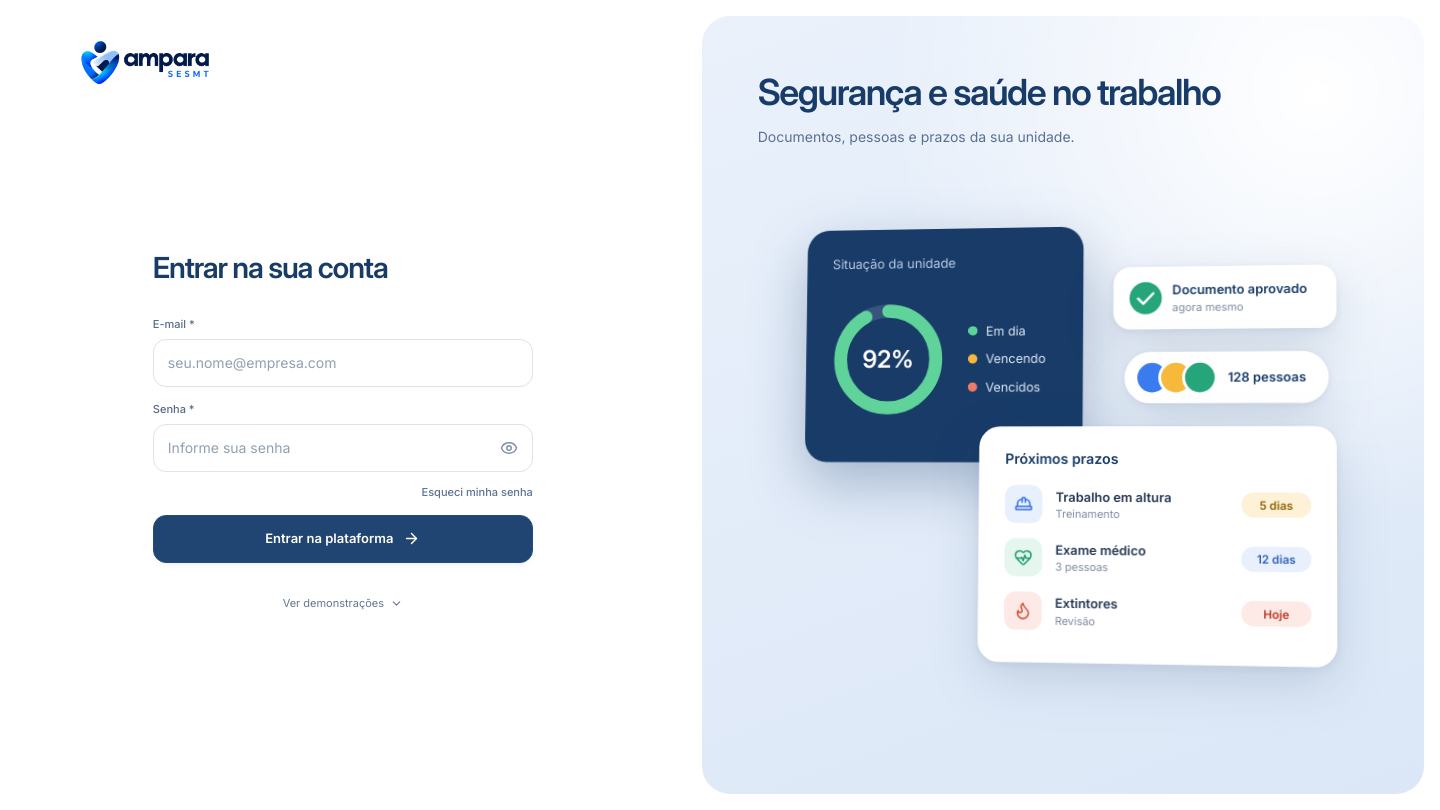
it: continuidade do acesso › abre e recolhe os perfis sem alterar o preenchimento nem autenticar uma conta
Type "conta@empresa.com" into the field labelled "E-mail" at coordinates (343, 363), box [153, 339, 533, 387]
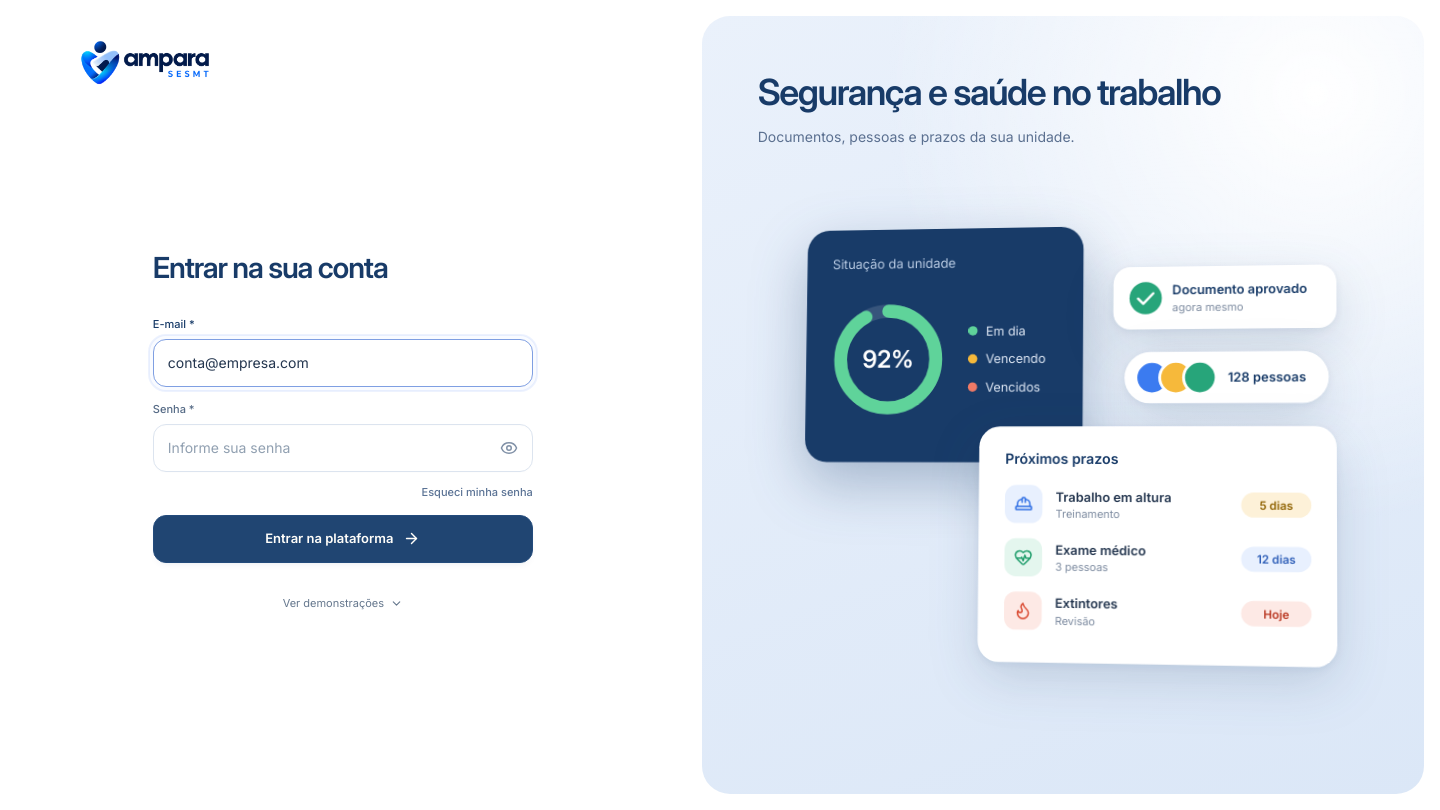
Type "Senha preservada" into the password field labelled "Senha" at coordinates (343, 448), box [153, 424, 533, 472]
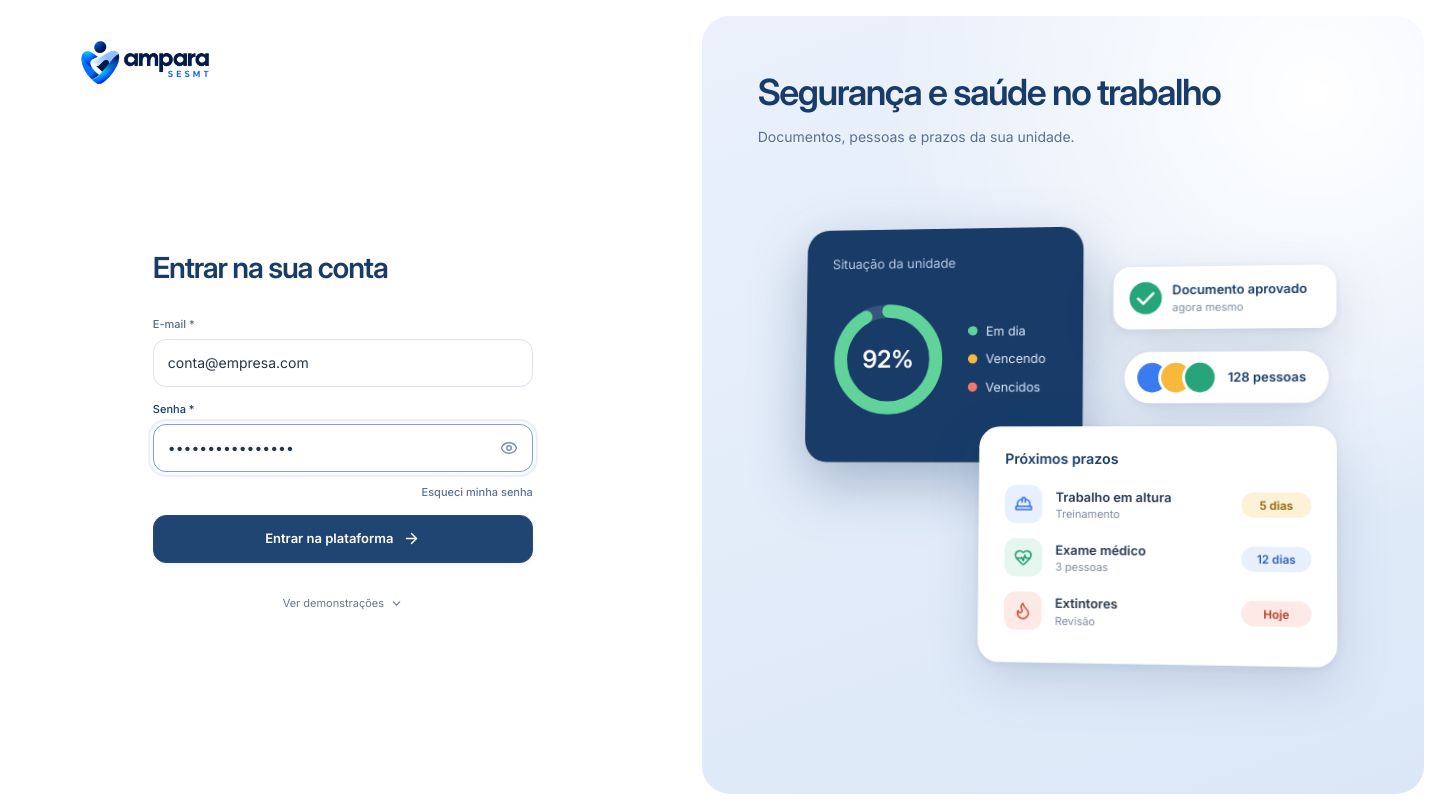
Click the button "Ver demonstrações" at coordinates (343, 604), box [271, 582, 415, 626]
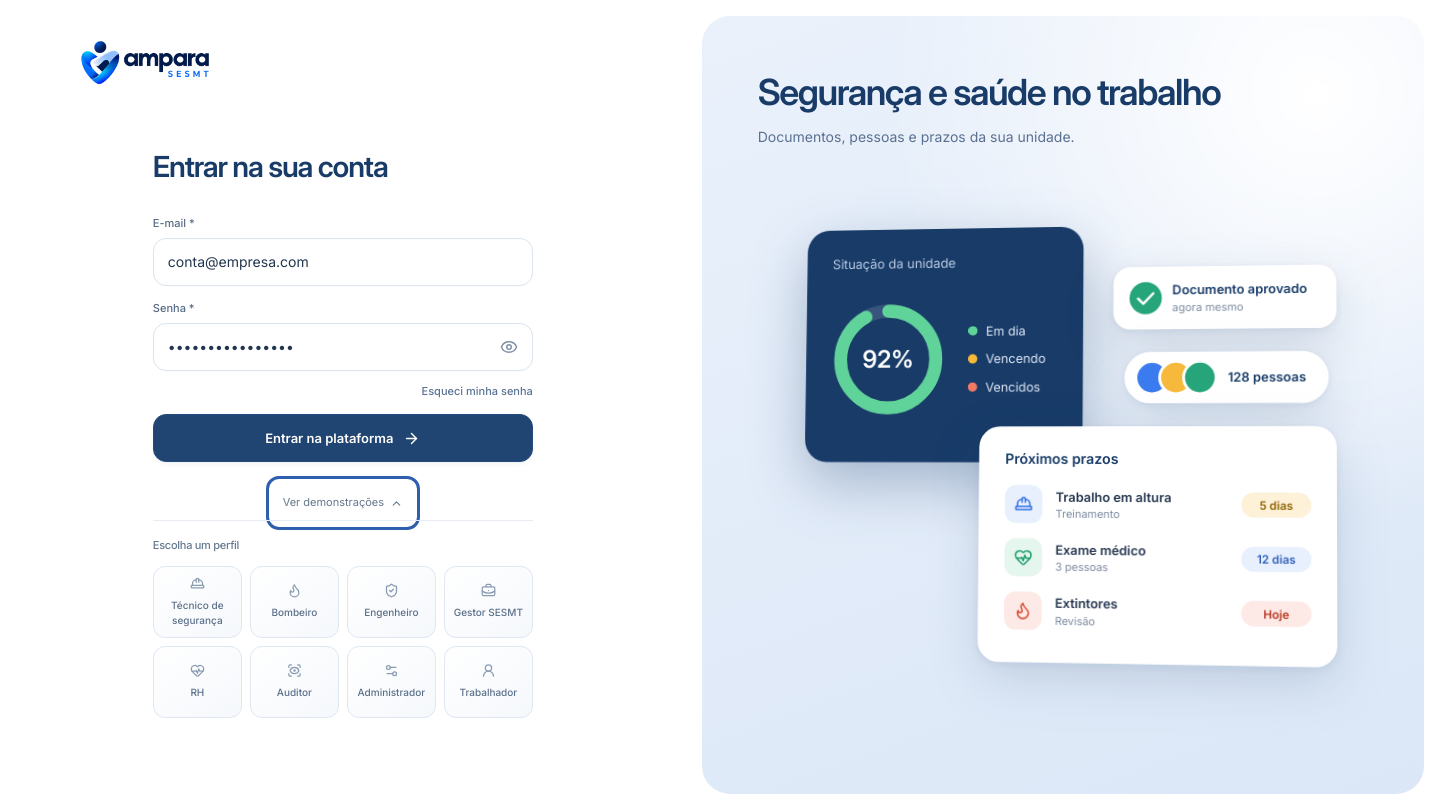
Click the button "Ver demonstrações" at coordinates (343, 503), box [271, 481, 415, 525]
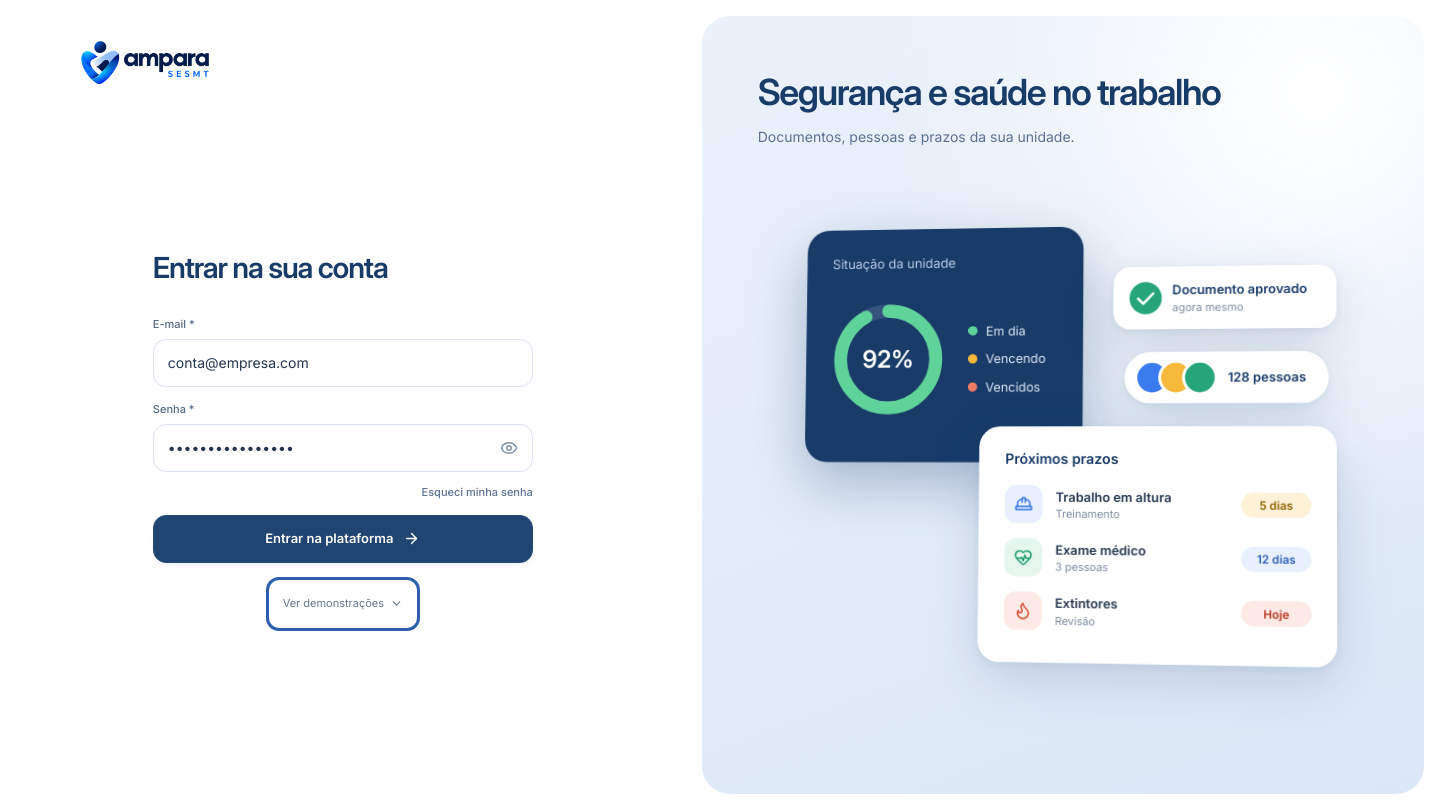
expect the button "Ver demonstrações" is collapsed: met, box [271, 582, 415, 626]
expect the button "Administrador" is gone: met
